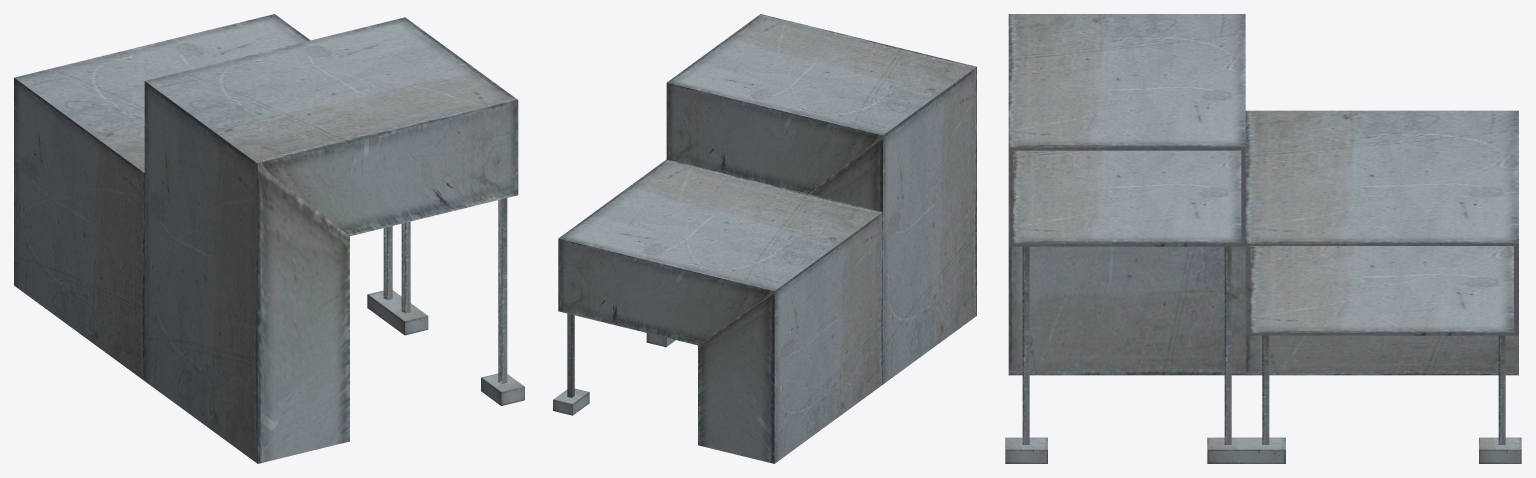
File: Air_vent3.fbx
3 views of the same model, side by side, from view 1: azimuth 30°, elevation 25°; view 2: azimuth 150°, elevation 25°; view 3: azimuth 270°, elevation 25° (orthographic). The views are drawn at different scales.
Visible parts, largest first — view 1: Air_vent3; view 2: Air_vent3; view 3: Air_vent3.
Boxes of the visible parts, x1=… form: Air_vent3: x1=14, y1=14, x2=524, y2=463; Air_vent3: x1=553, y1=14, x2=976, y2=463; Air_vent3: x1=1005, y1=14, x2=1521, y2=463.
Size of the model in its own units: 105 by 114 by 170.
